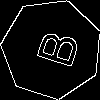B: (26, 24, 81, 70)
